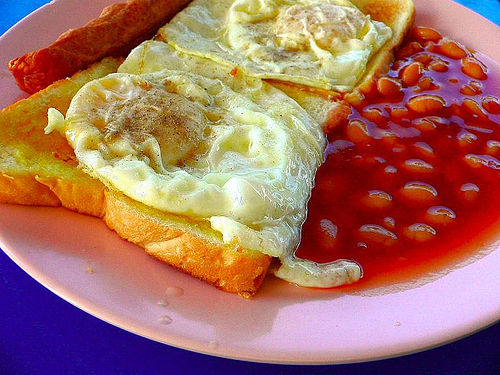egg: (43, 37, 326, 259), (164, 0, 393, 92)
